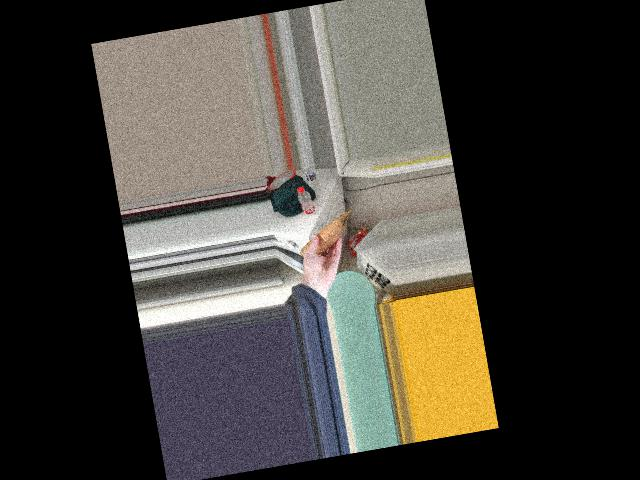sweet_potato: (305, 219, 342, 255)
